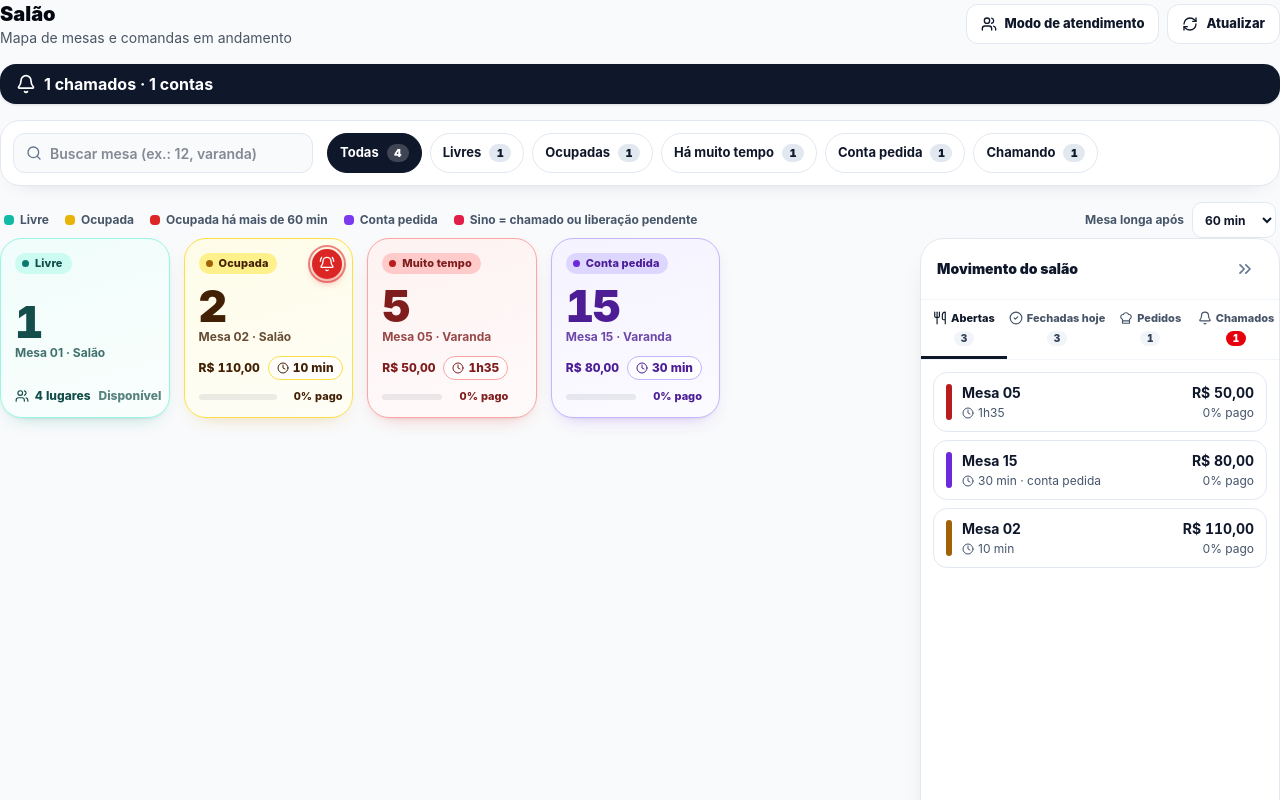
Test: SalonPage — mapa de mesas › depois da migração › modal Lançar pedido na mesa carrega o cardápio da loja (com busca, categorias e foto) e o botão diz Fazer pedido
This screenshot has width=1280, height=800.
Step 1. Click the button with test id "salon-table-t2" → (268, 328), box [184,238,353,418]
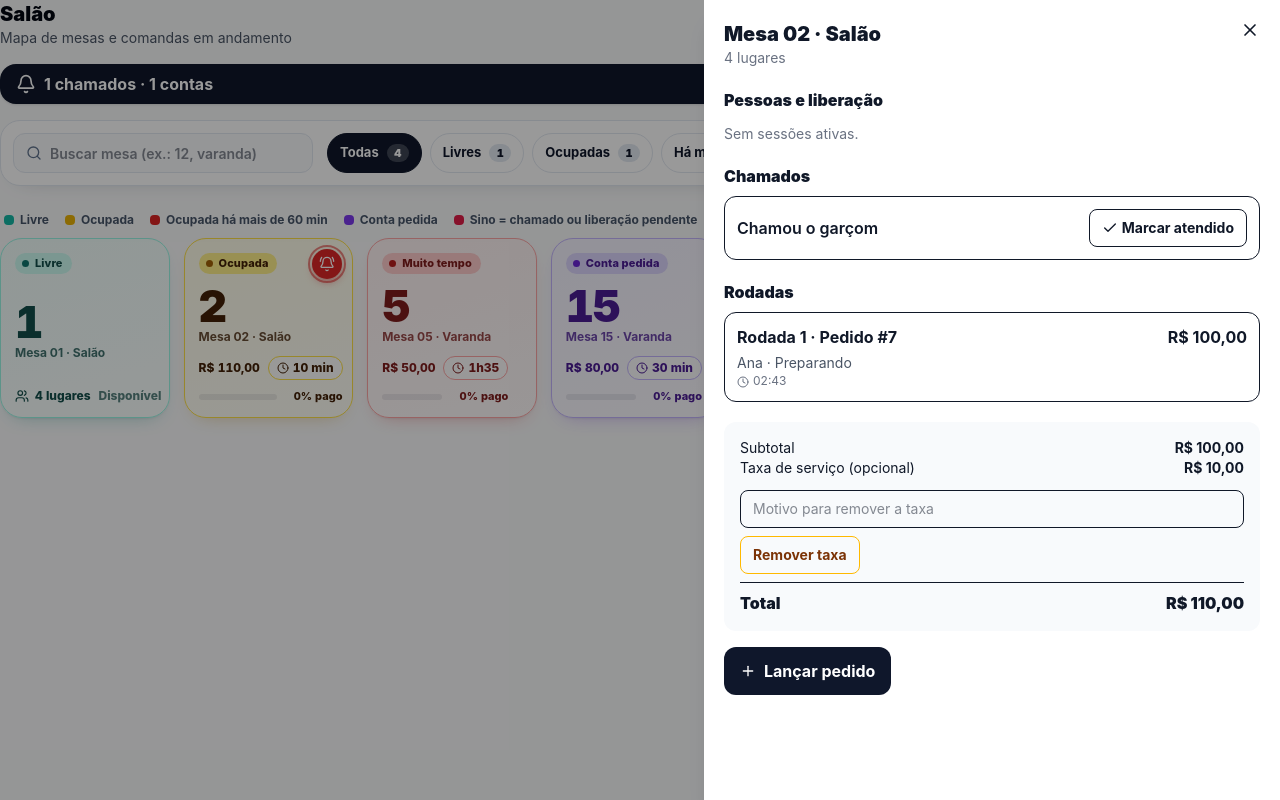
Step 2. Click the button "Lançar pedido" → (808, 671), box [724,647,891,695]
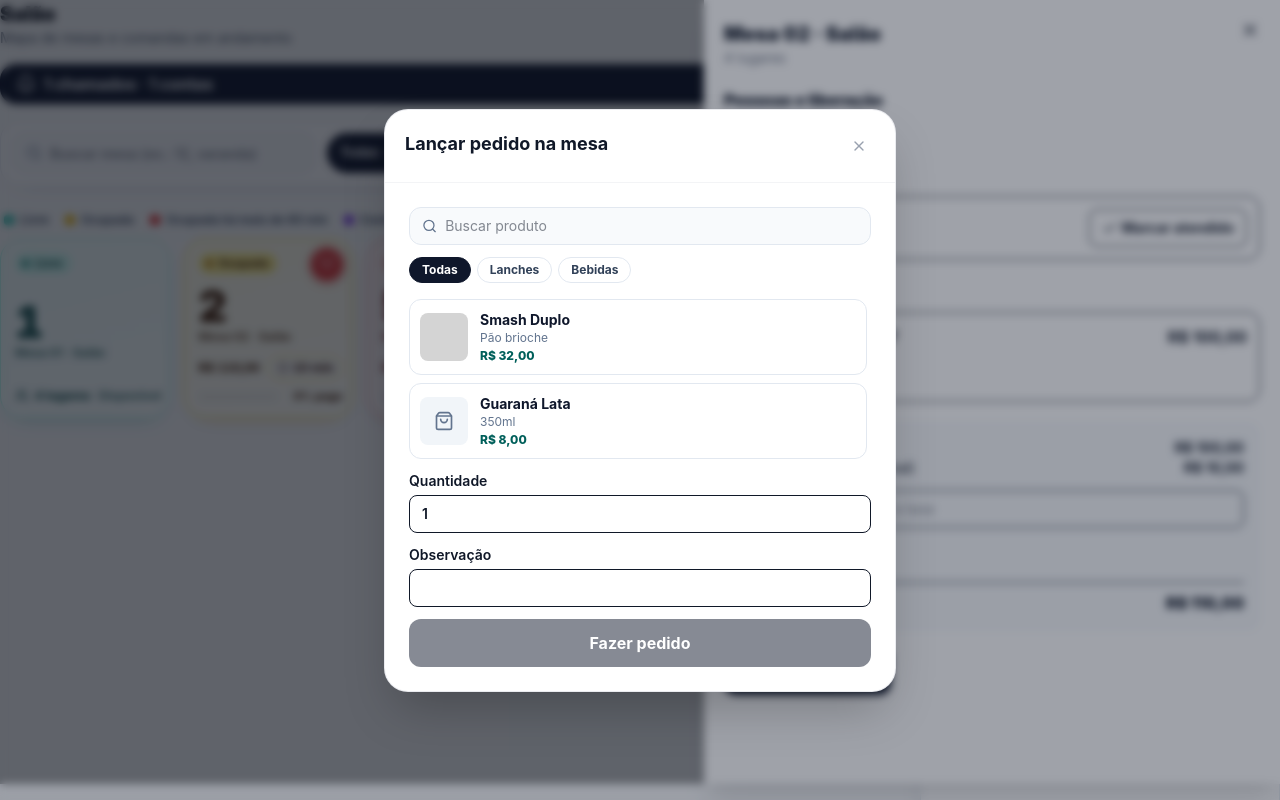
Check: the heading "Lançar pedido na mesa" is shown, box [405,130,608,158]
Check: the button "Fazer pedido" is disabled, box [409,618,871,666]
Check: the option with test id "salon-order-product-p-burger" is shown, box [409,298,867,374]
Step 3. Click the button "Bebidas" → (595, 270), box [558,256,632,282]
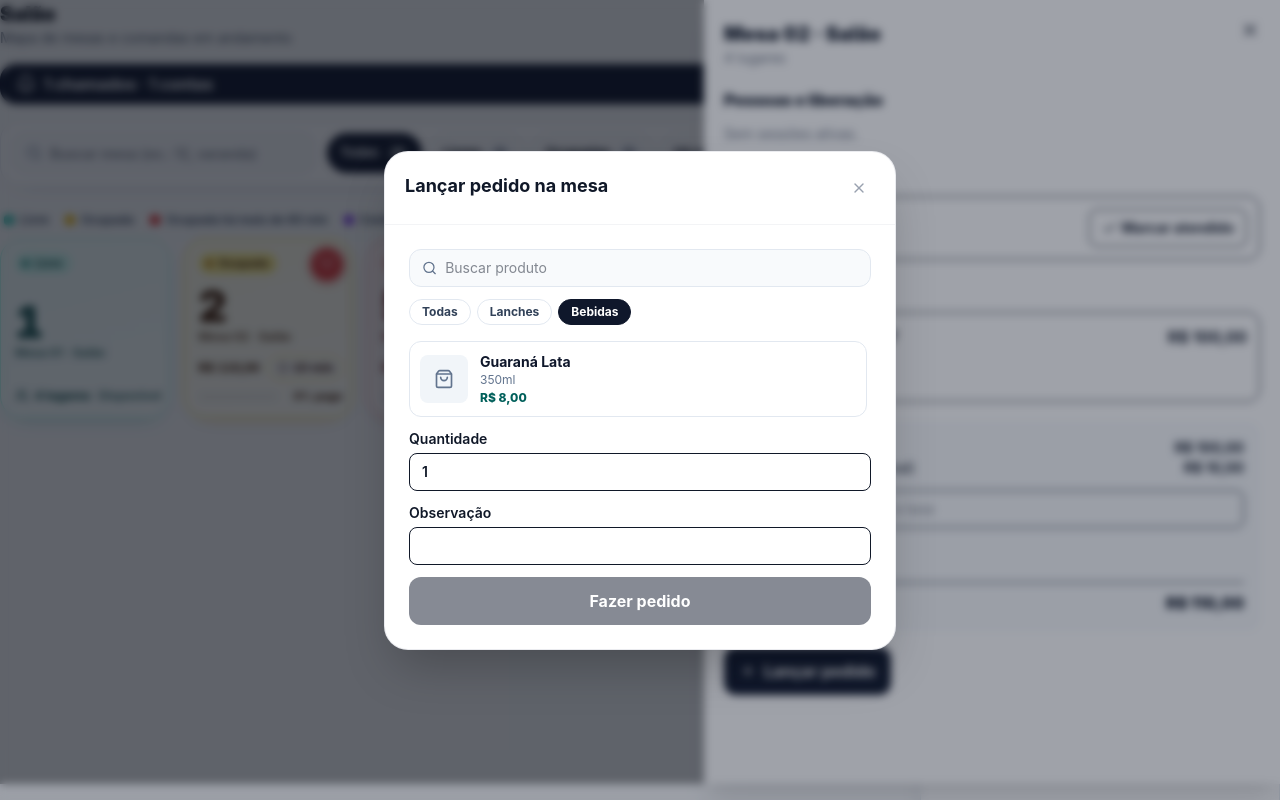
Check: the option with test id "salon-order-product-p-soda" is shown, box [409,340,867,416]
Check: the option with test id "salon-order-product-p-burger" is gone
Step 4. Click the button "Todas" → (440, 312), box [409,298,471,324]
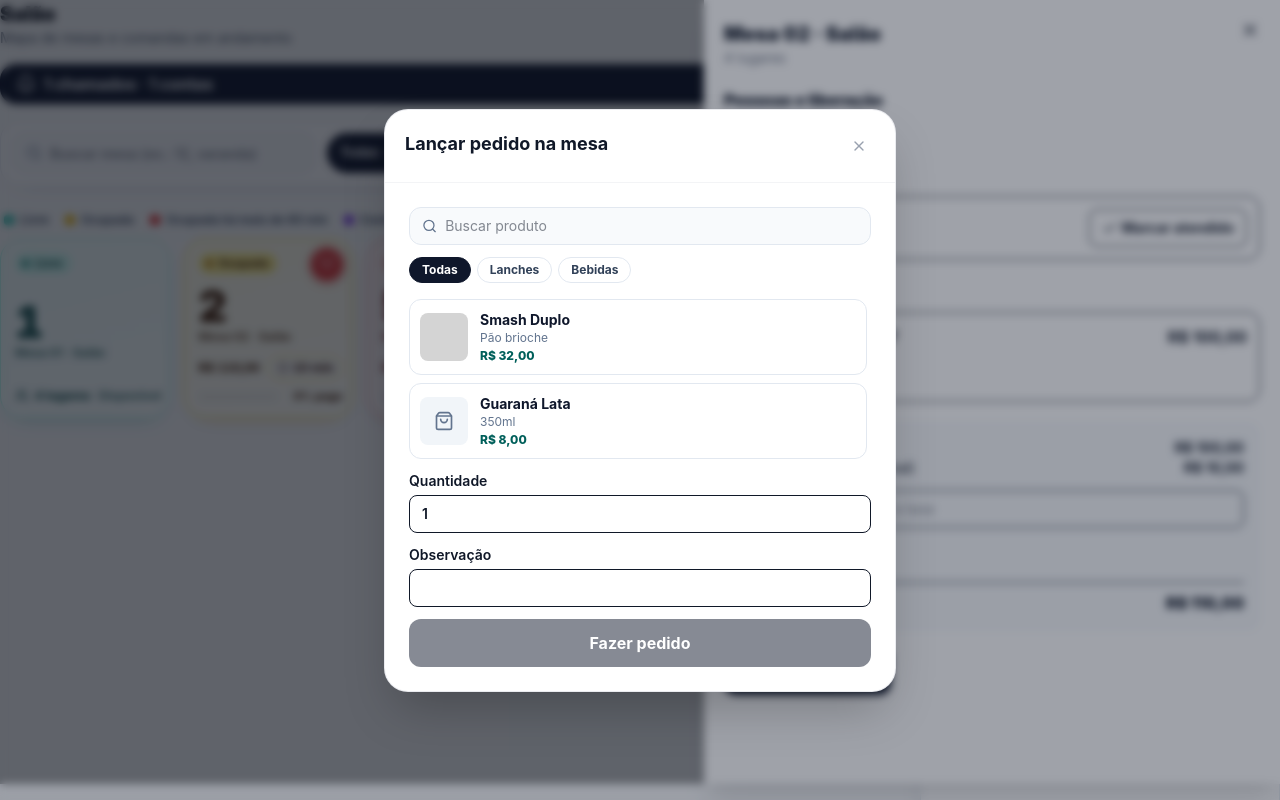
Step 5. Type "smash" into the search field labelled "Buscar produto" → (652, 226), box [445,216,858,236]
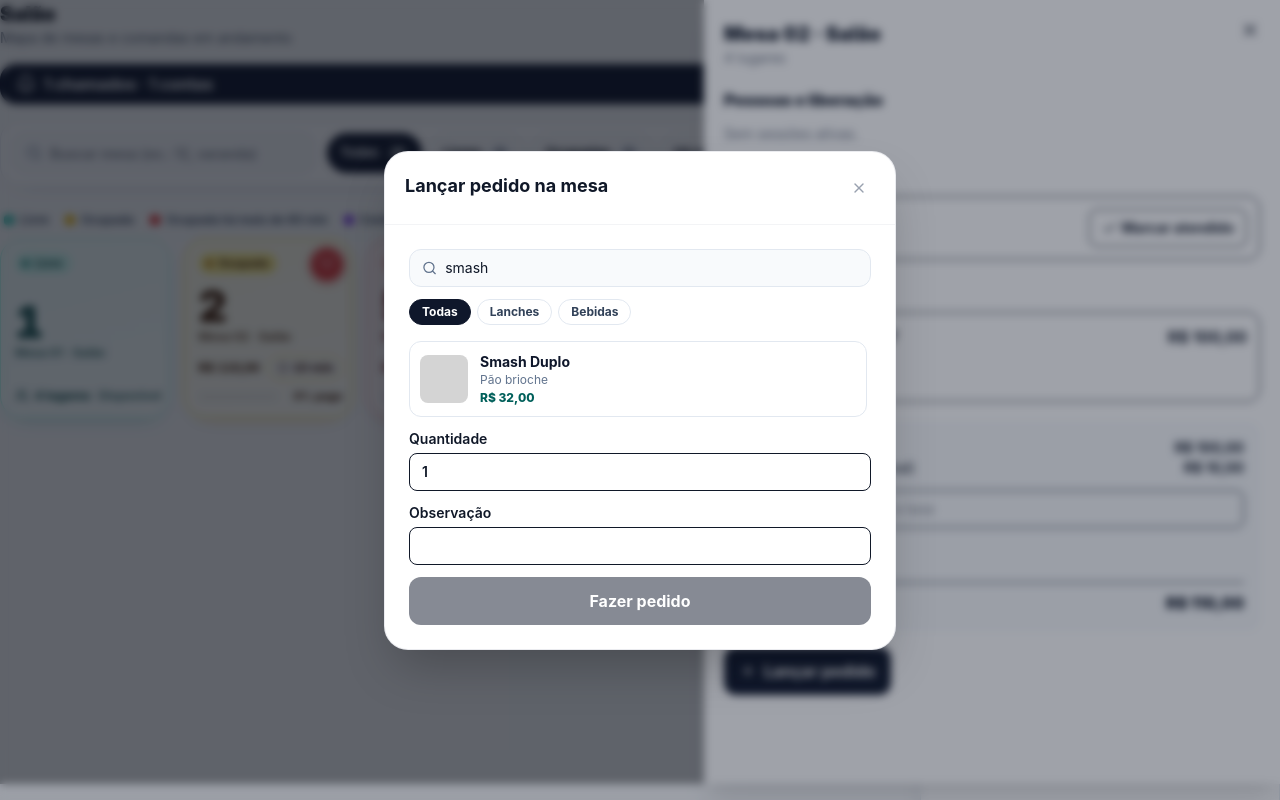
Check: the option with test id "salon-order-product-p-burger" is shown
Check: the option with test id "salon-order-product-p-soda" is gone
Step 6. Click the option with test id "salon-order-product-p-burger" → (444, 378), box [409,340,867,416]
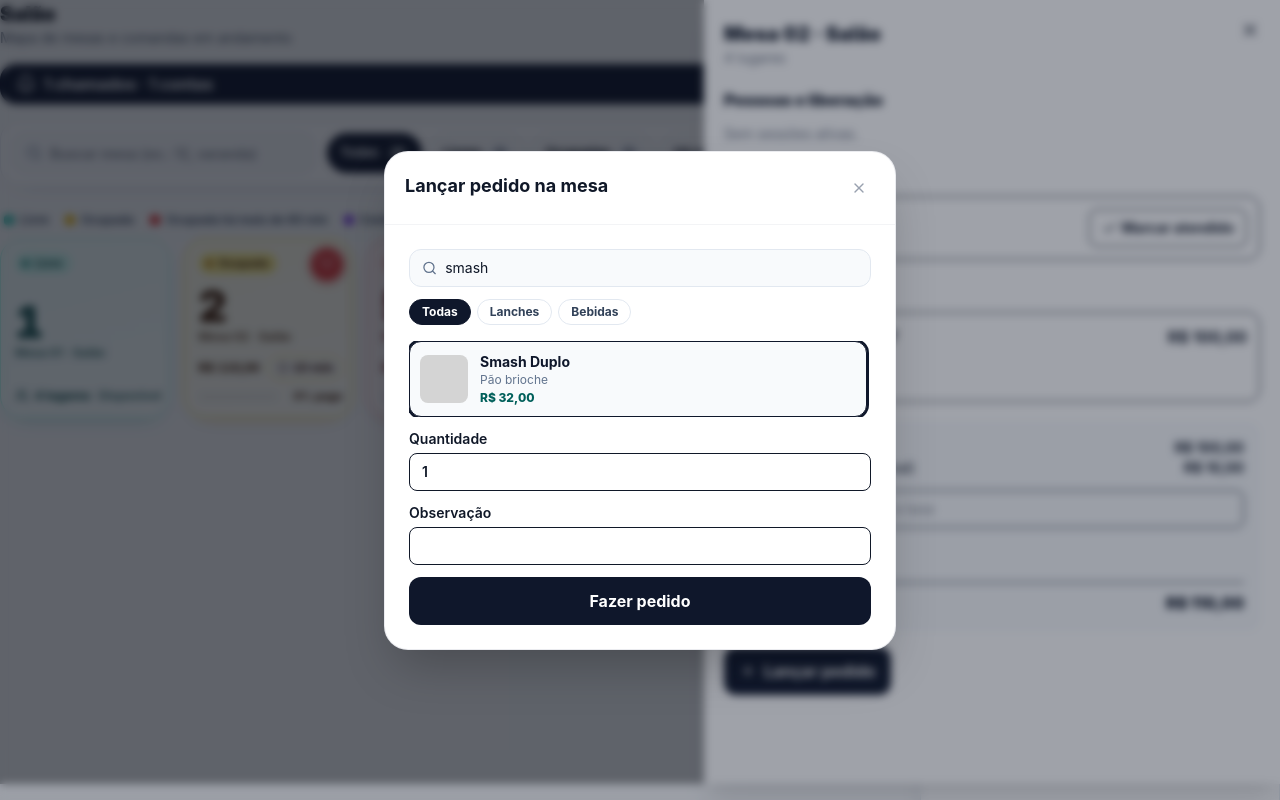
Check: the button "Fazer pedido" is enabled, box [409,576,871,624]
